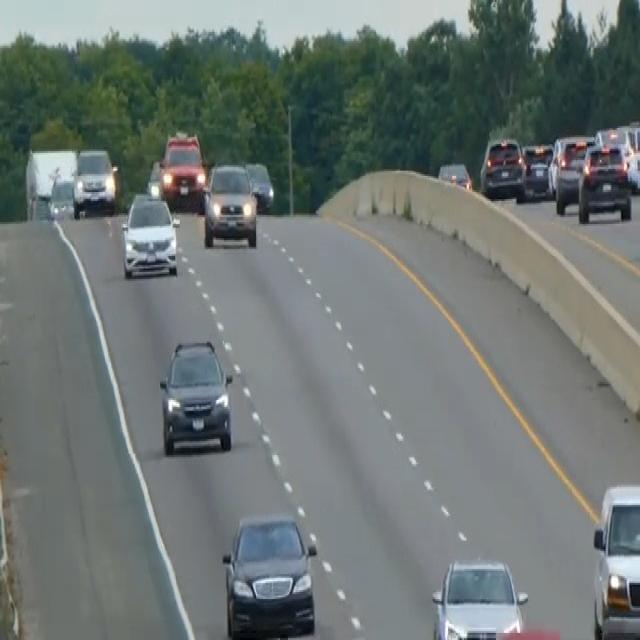car: (220, 510, 318, 638), (430, 555, 528, 638), (591, 480, 639, 638), (120, 189, 179, 279), (202, 160, 258, 249), (577, 139, 632, 222), (159, 130, 206, 208), (552, 135, 594, 213), (479, 133, 526, 199), (521, 140, 553, 198), (244, 158, 274, 212), (437, 158, 472, 190), (490, 626, 565, 638), (146, 157, 163, 199)
jeep: (157, 332, 235, 457), (71, 144, 118, 219)
